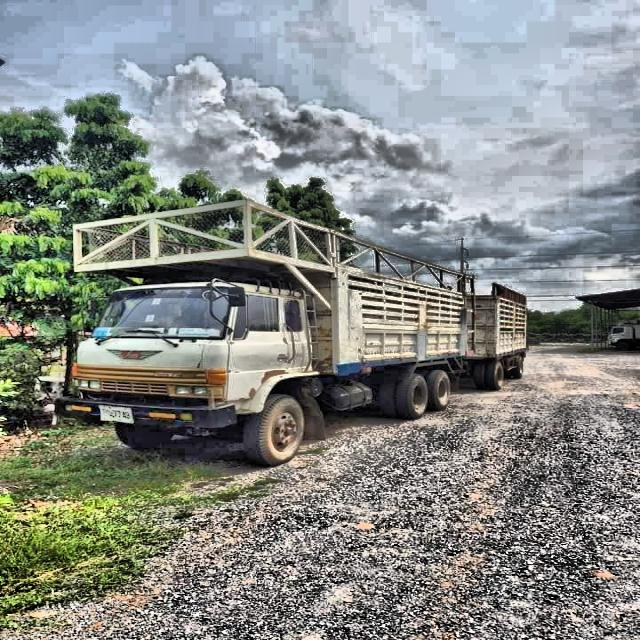trailer: (61, 194, 538, 470)
